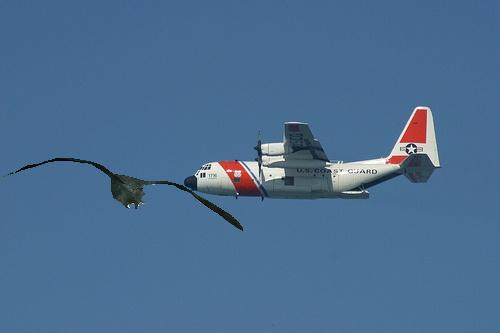tampered: (1, 159, 243, 231)
